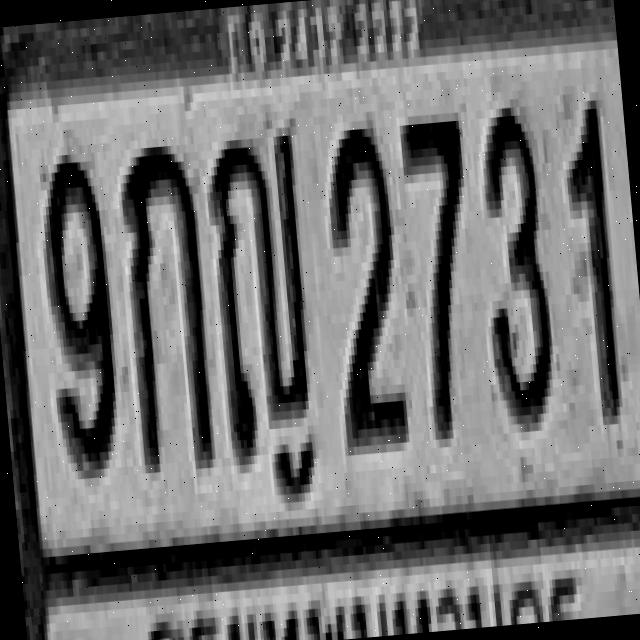1: (560, 96, 624, 422)
10GorGai: (115, 136, 217, 473)
2: (319, 119, 409, 447)
22YorYing: (203, 122, 320, 462)
3: (471, 98, 558, 426)
7: (398, 108, 486, 436)
9: (36, 144, 122, 472)
